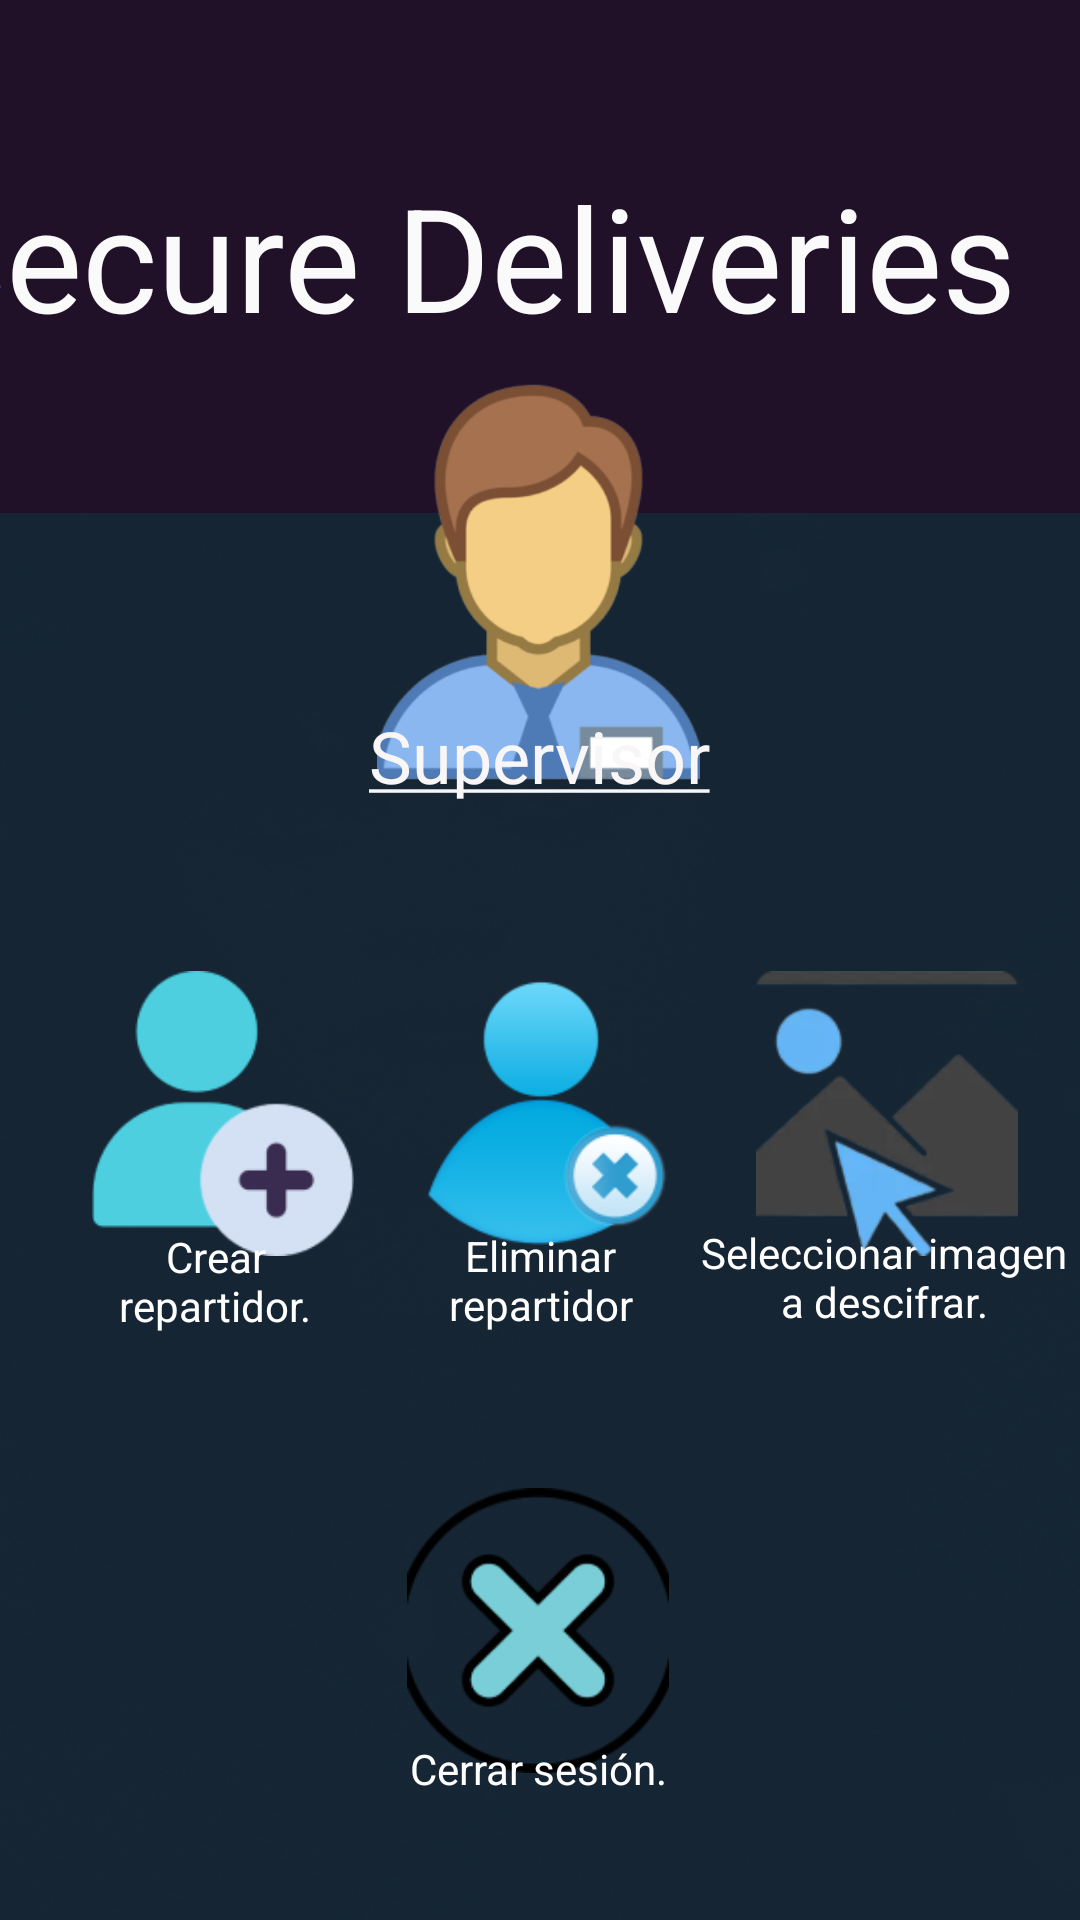

Where to tap for icons on this 1080x1920 app screen, as point (x, y):
crear usuario: point (223, 1113)
eliminar usuario: point (546, 1114)
